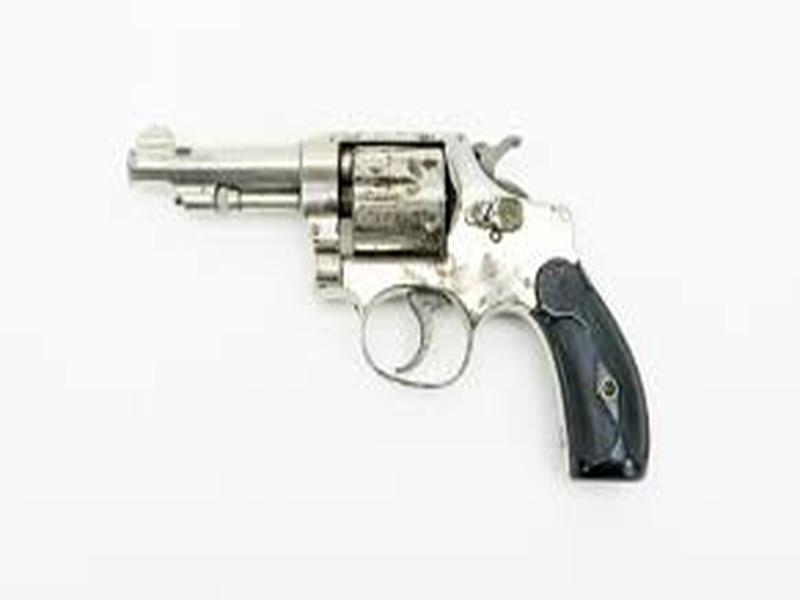gun: (121, 118, 658, 485)
